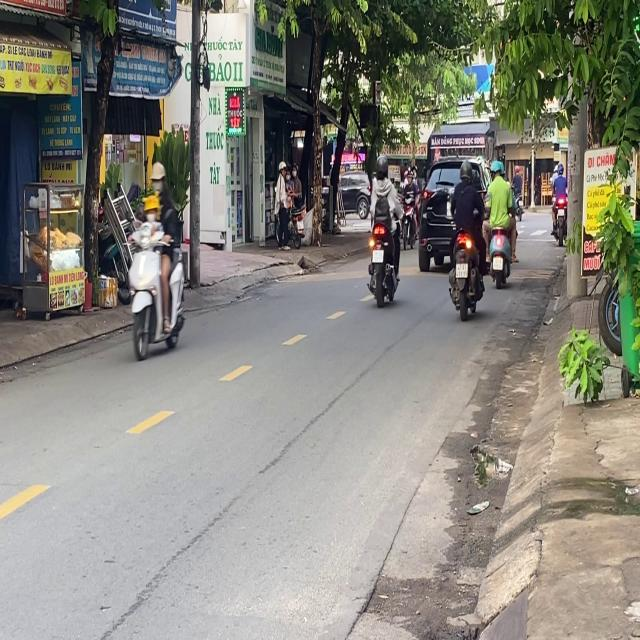helmet: (150, 160, 165, 192), (375, 153, 388, 178), (459, 159, 472, 182)
licenseplate: (125, 159, 187, 360), (446, 158, 486, 318), (365, 153, 402, 304)
motorcyclist: (143, 192, 160, 225)
nohelmet: (456, 262, 468, 276), (372, 249, 383, 262)
